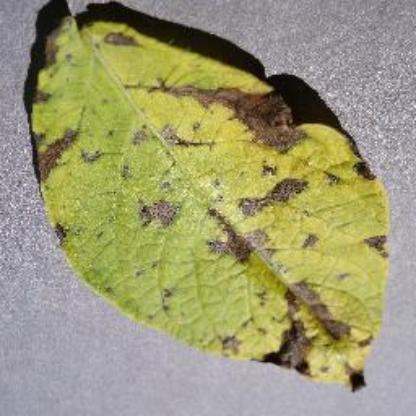Early-Blight: (29, 11, 385, 392)
